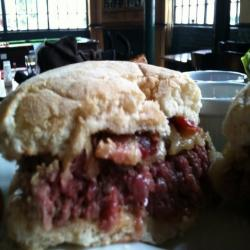burger: (5, 60, 224, 247)
